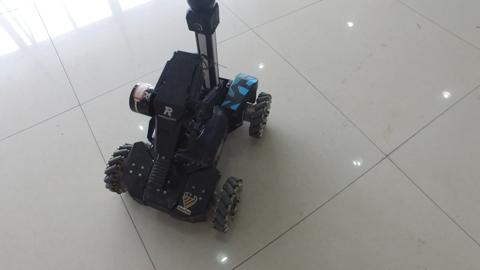chariot: (104, 2, 268, 219)
